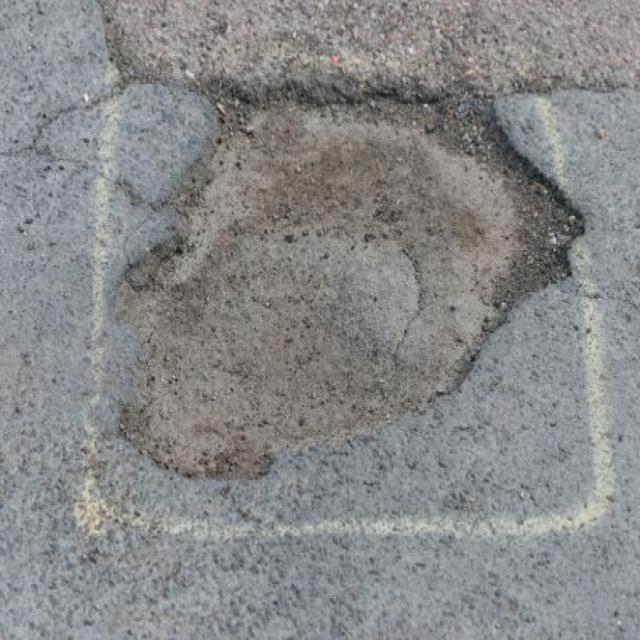Pothole: (110, 62, 590, 485)
